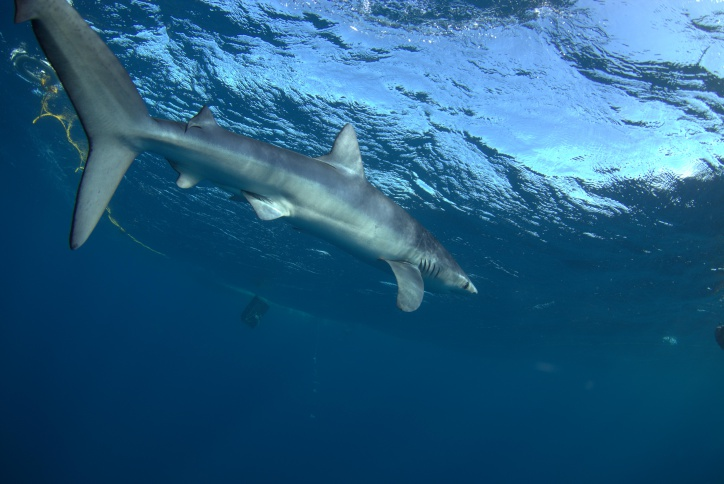Azul: (19, 1, 491, 330)
